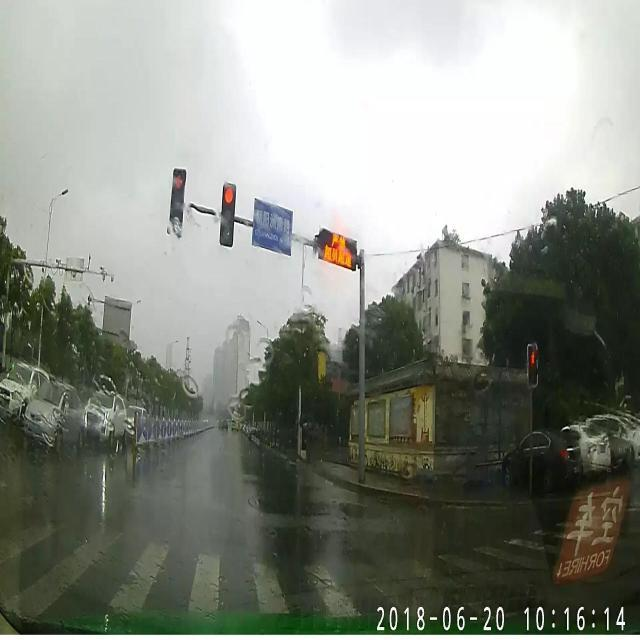car: (502, 426, 582, 494), (24, 380, 86, 450), (0, 362, 52, 425), (550, 424, 610, 478), (80, 388, 128, 448), (121, 402, 152, 444)
